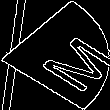M_NW: (7, 21, 103, 89)
